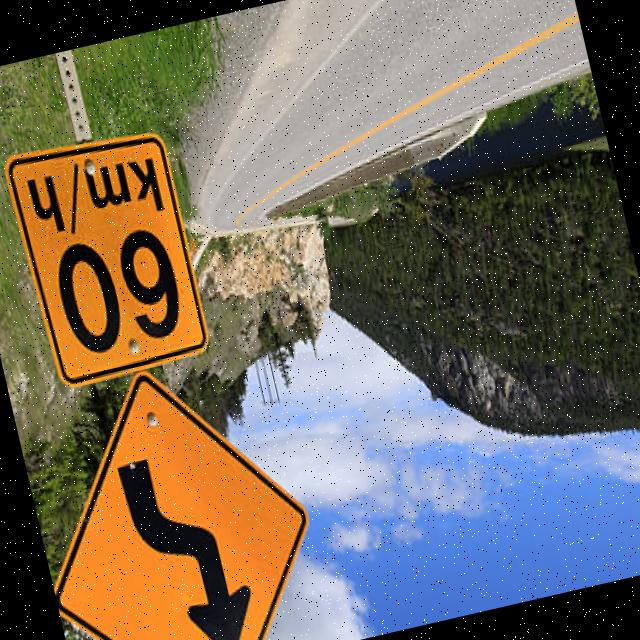left_sharp_curve: (12, 347, 343, 640)
